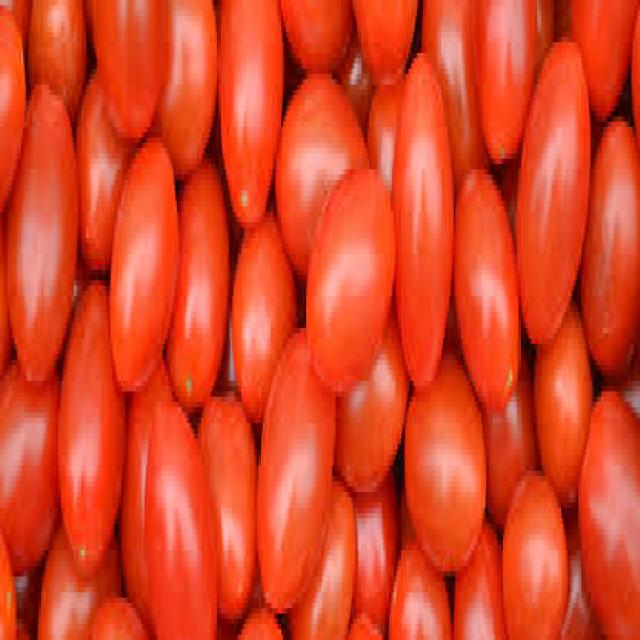Fresh_tomato: (518, 22, 596, 386), (295, 159, 405, 390), (35, 76, 105, 406), (136, 389, 214, 640), (404, 350, 488, 565), (220, 0, 286, 220), (0, 0, 26, 196)
